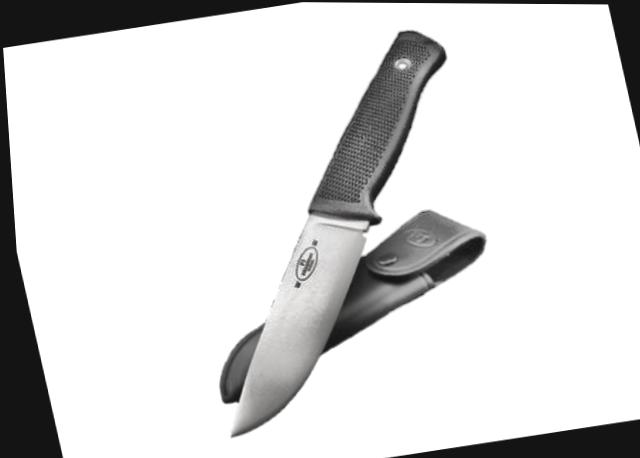knife: (165, 182, 425, 444)
